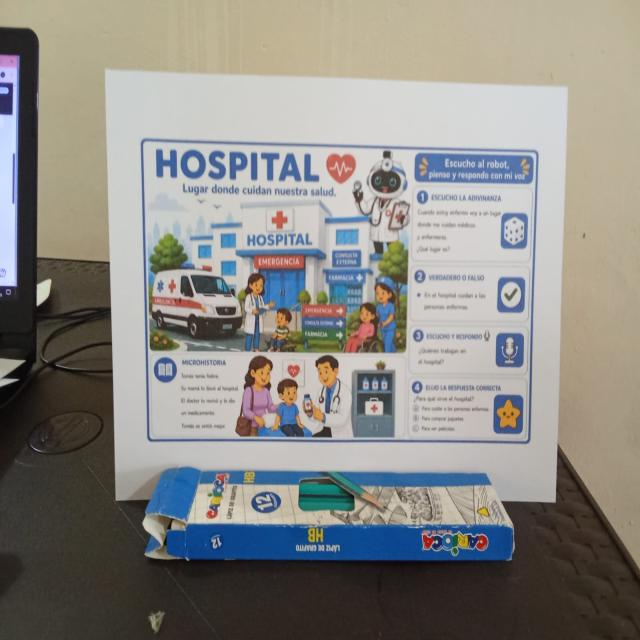hospital: (137, 133, 542, 448)
